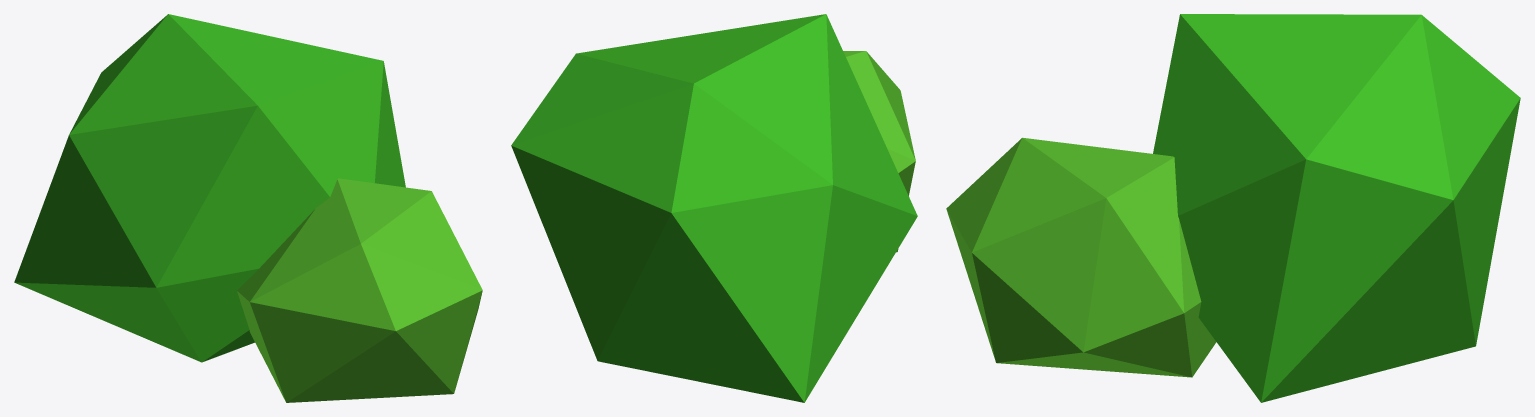
File: bush2good.fbx
The picture shows the model from 3 angles, left to right: view 1: azimuth 30°, elevation 25°; view 2: azimuth 150°, elevation 25°; view 3: azimuth 270°, elevation 25°; orthographic projection. The views are drawn at different scales.
Parts seen in each view (by area): view 1: Icosphere.044; view 2: Icosphere.044; view 3: Icosphere.044.
Part boxes in pixels (box(x1,y1,x2,y2)): Icosphere.044: box(14, 14, 482, 402); Icosphere.044: box(511, 14, 917, 402); Icosphere.044: box(946, 14, 1520, 402).
Bounding box in the file's own units: 209 × 170 × 297.
